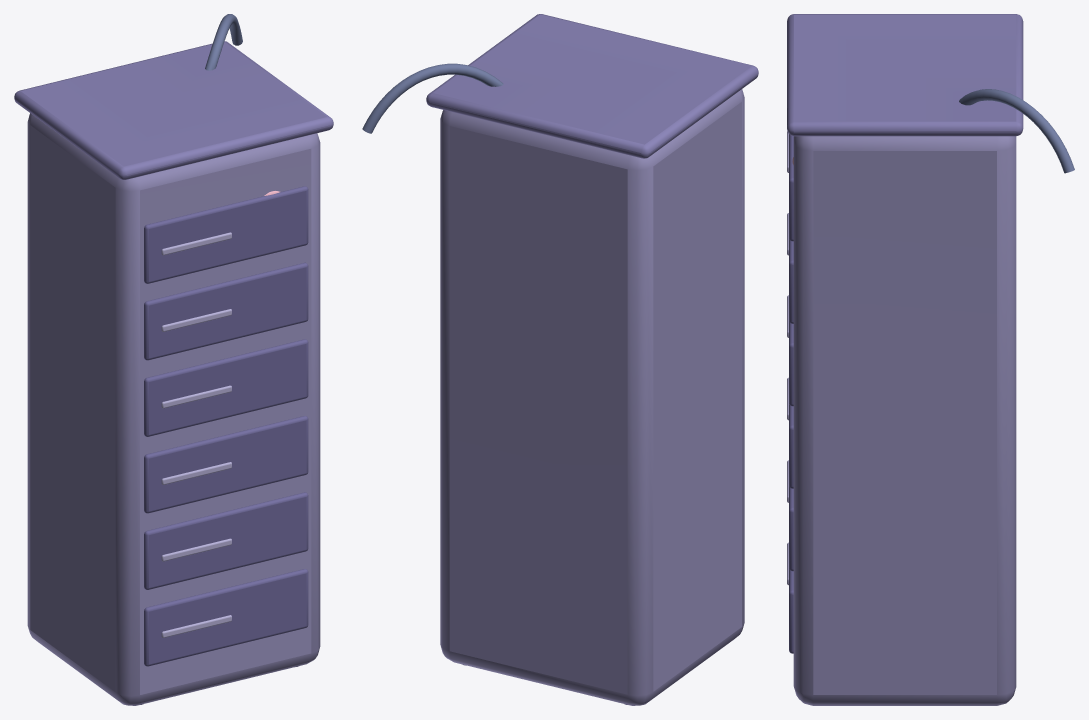
Rendered from serverrack.glb.
3 renders of one model, left to right at view 1: azimuth 30°, elevation 25°; view 2: azimuth 150°, elevation 25°; view 3: azimuth 270°, elevation 25°, orthographic. The views are drawn at different scales.
Visible parts, largest first — view 1: cabinet, c6f6a9c, cap, cb3aed6, cable; view 2: cabinet, cap, cable; view 3: cabinet, cap, c6f6a9c, cable, cb3aed6.
Boxes of the visible parts, bbox=[...] form: cabinet: bbox=[27, 113, 320, 705]; c6f6a9c: bbox=[140, 186, 308, 704]; cap: bbox=[14, 41, 333, 179]; cb3aed6: bbox=[161, 232, 231, 637]; cable: bbox=[205, 14, 242, 70]; cabinet: bbox=[440, 89, 744, 705]; cap: bbox=[426, 14, 758, 158]; cable: bbox=[362, 63, 503, 133]; cabinet: bbox=[793, 136, 1016, 705]; cap: bbox=[787, 14, 1023, 136]; c6f6a9c: bbox=[789, 134, 793, 653]; cable: bbox=[959, 89, 1074, 173]; cb3aed6: bbox=[787, 131, 788, 585].
Bounding box in the file's own units: 1.62 × 3.52 × 1.49.
